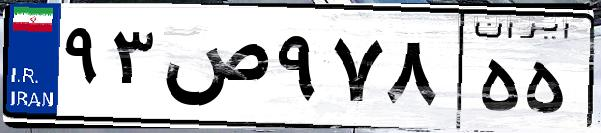3: (110, 28, 158, 98)
5: (475, 38, 525, 113), (525, 38, 570, 115)
7: (330, 28, 385, 110)
8: (385, 28, 445, 110)
9: (270, 28, 330, 110), (57, 26, 110, 100)
ص: (158, 20, 270, 120)
